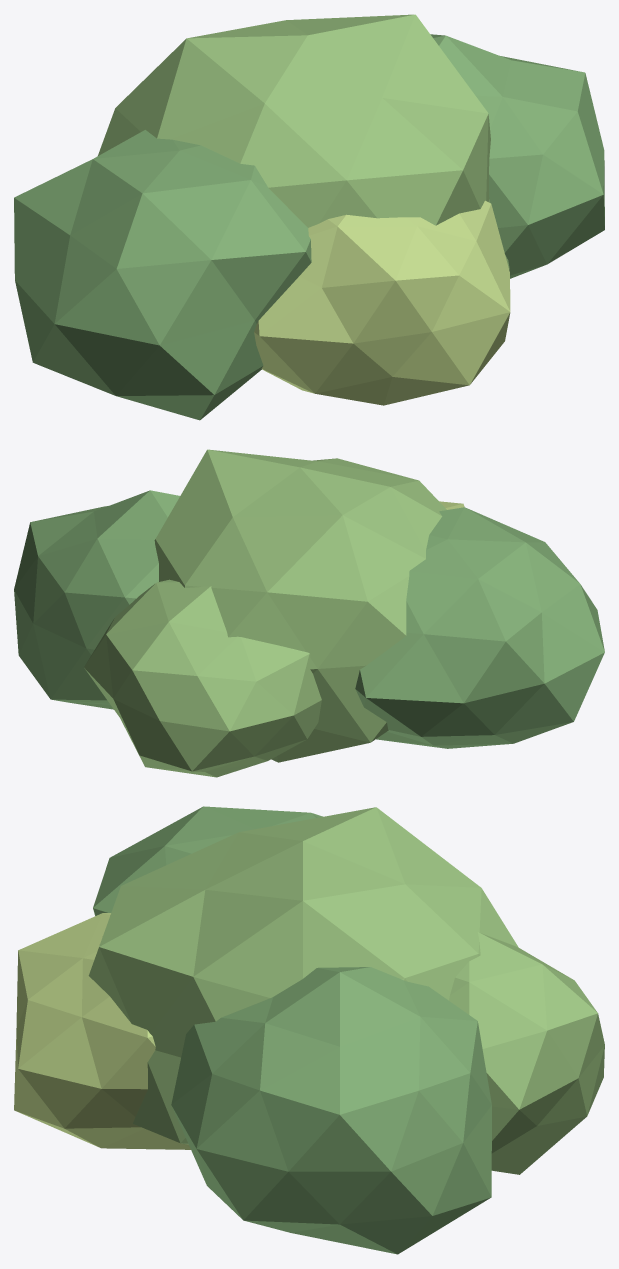
The model's file is Bush_Round.fbx.
3 renders of one model, top to bottom at view 1: azimuth 30°, elevation 25°; view 2: azimuth 150°, elevation 25°; view 3: azimuth 270°, elevation 25°, orthographic. The views are drawn at different scales.
Visible parts, largest first — view 1: Bush_Round; view 2: Bush_Round; view 3: Bush_Round.
Part boxes in pixels (x1,y1,x2,y2): Bush_Round: (14,14,604,420); Bush_Round: (14,449,604,777); Bush_Round: (14,806,604,1254).
Bounding box in the file's own units: 1.92 × 0.9578 × 1.6.
